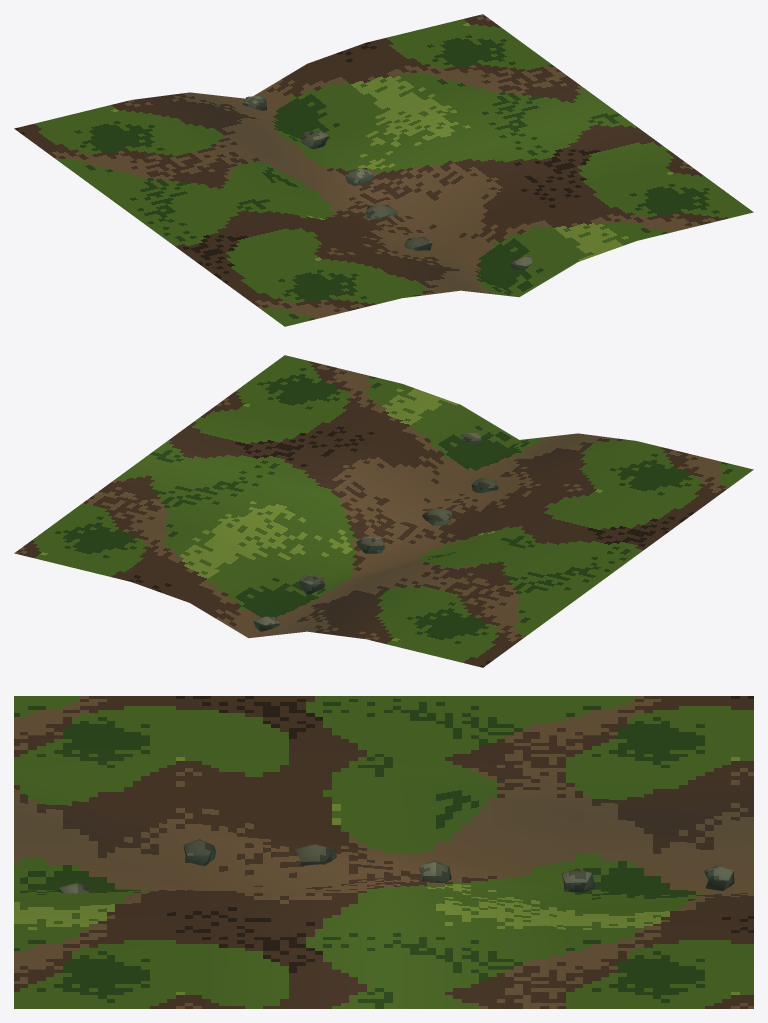
The model's file is land.wash__jungle.glb.
3 renders of one model, top to bottom at view 1: azimuth 30°, elevation 25°; view 2: azimuth 150°, elevation 25°; view 3: azimuth 270°, elevation 25°, orthographic. The views are drawn at different scales.
Parts seen in each view (by area): view 1: kit_shell_ground, kit_pebbles; view 2: kit_shell_ground, kit_pebbles; view 3: kit_shell_ground, kit_pebbles.
Boxes of the visible parts, left/top/right/bottom form: kit_shell_ground: left=14, top=14, right=753, bottom=326; kit_pebbles: left=242, top=95, right=532, bottom=269; kit_shell_ground: left=14, top=355, right=753, bottom=667; kit_pebbles: left=253, top=433, right=498, bottom=631; kit_shell_ground: left=14, top=696, right=753, bottom=1008; kit_pebbles: left=58, top=839, right=734, bottom=893.
Size of the model in its own units: 8 by 0.45 by 8.
2 materials, 2 textured.
